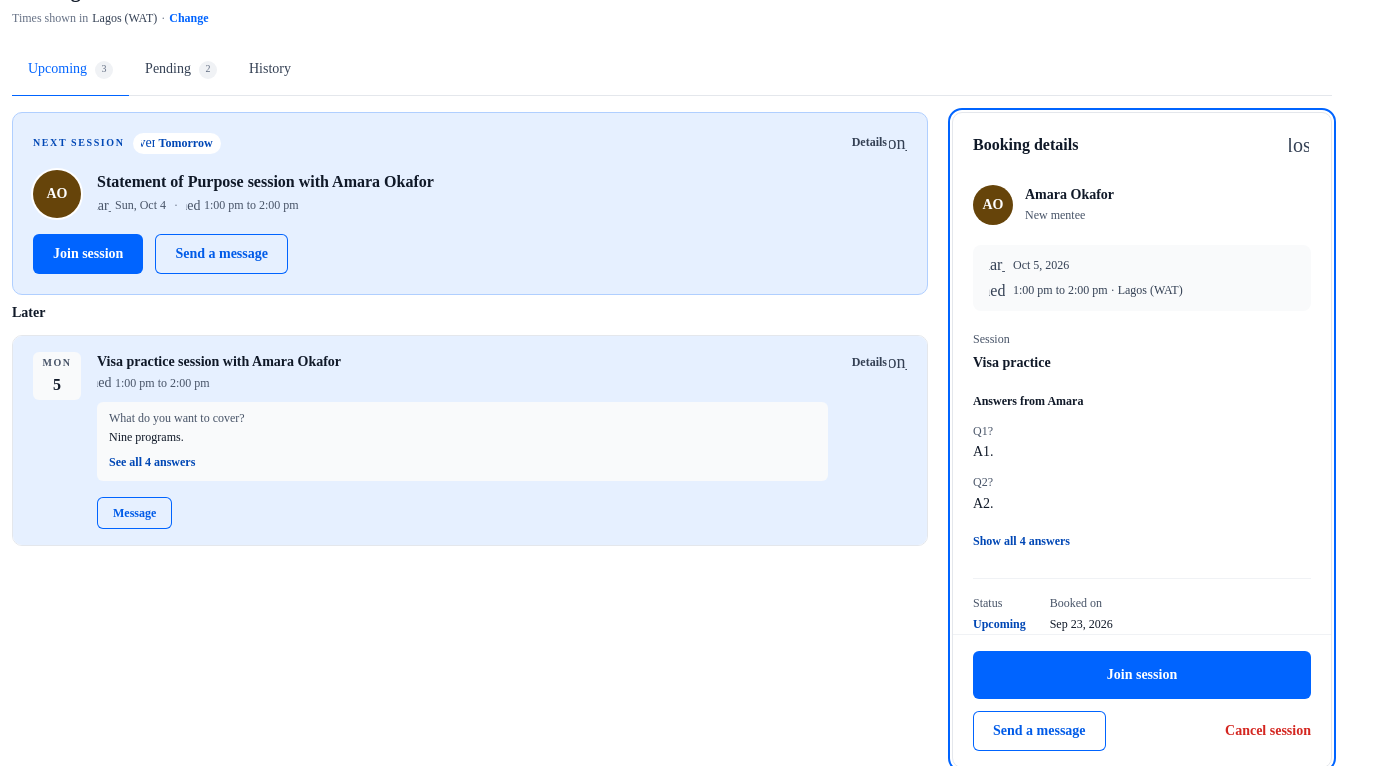
Test: the answers preview on the rows › opens the panel with every answer already shown, in one step
(page scrolled)
Click the button with aria-label "See all 4 answers for Visa practice": coordinates (152, 463) [109, 453, 195, 473]
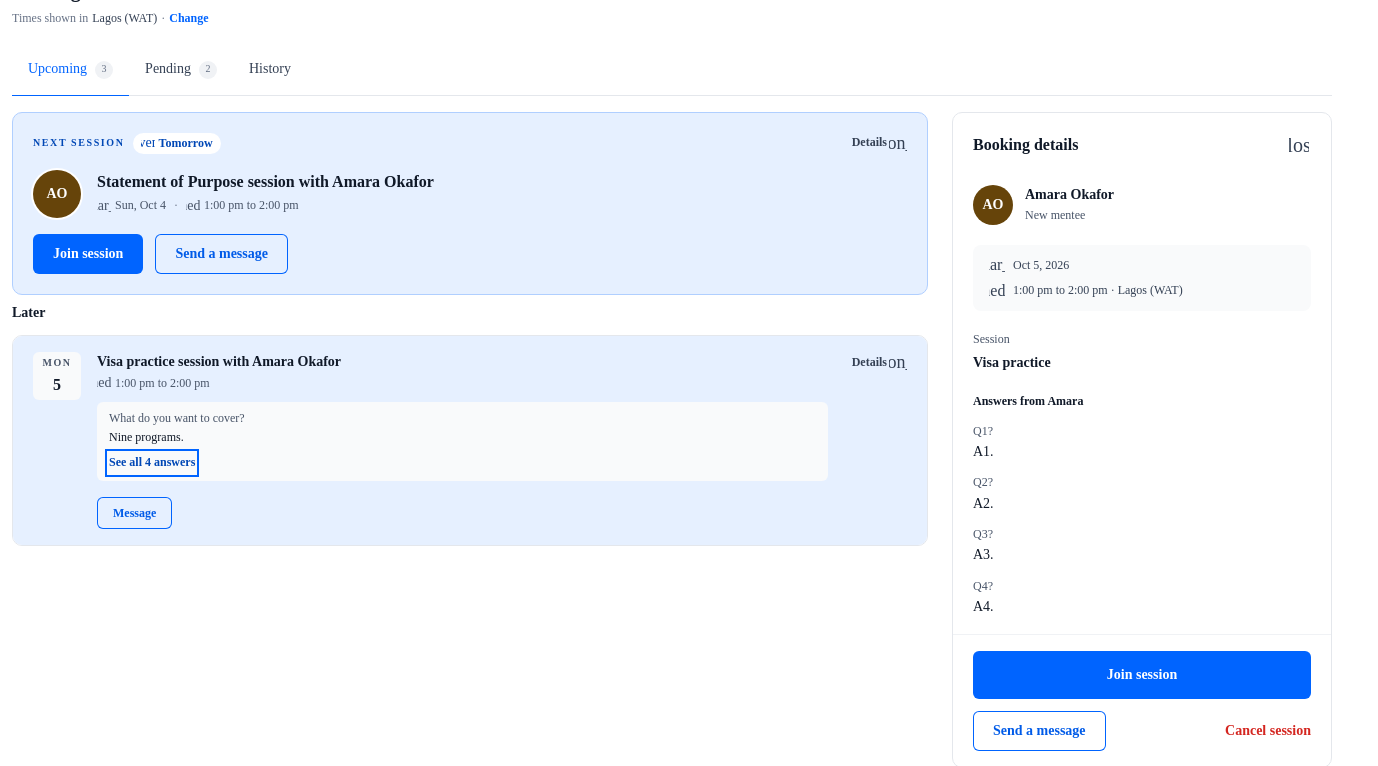
Check: the text "A4." is shown, box [973, 599, 994, 614]
